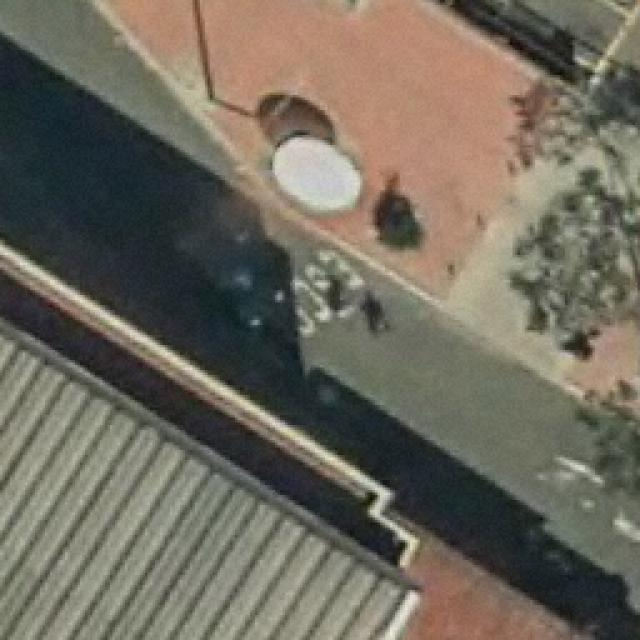vendedor_ambulante: (270, 130, 370, 219)
